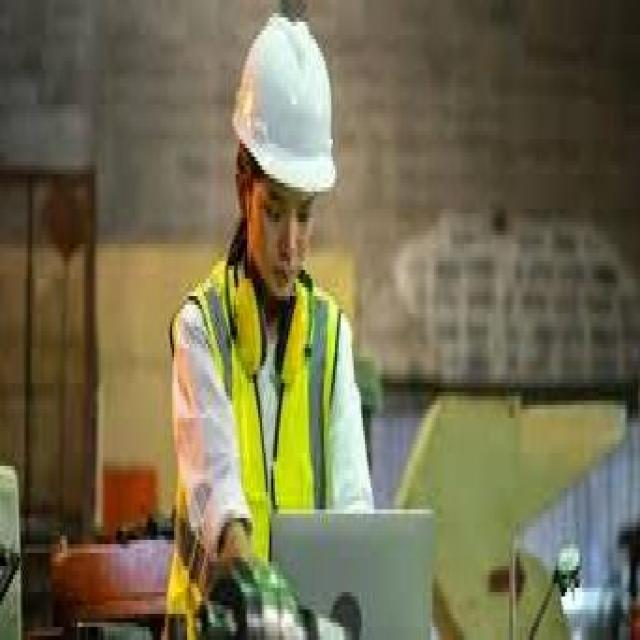Reflective-Jacket: (159, 261, 354, 636)
Safety-Helmet: (228, 9, 344, 213)
